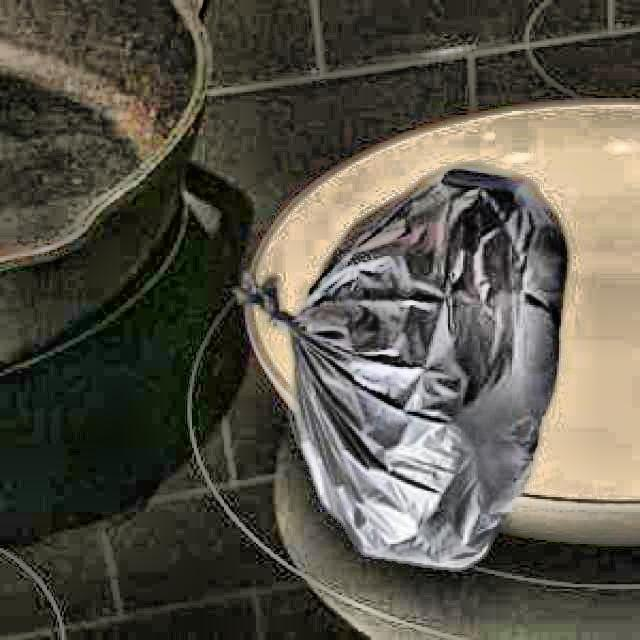Trashbag: (225, 159, 578, 582)
